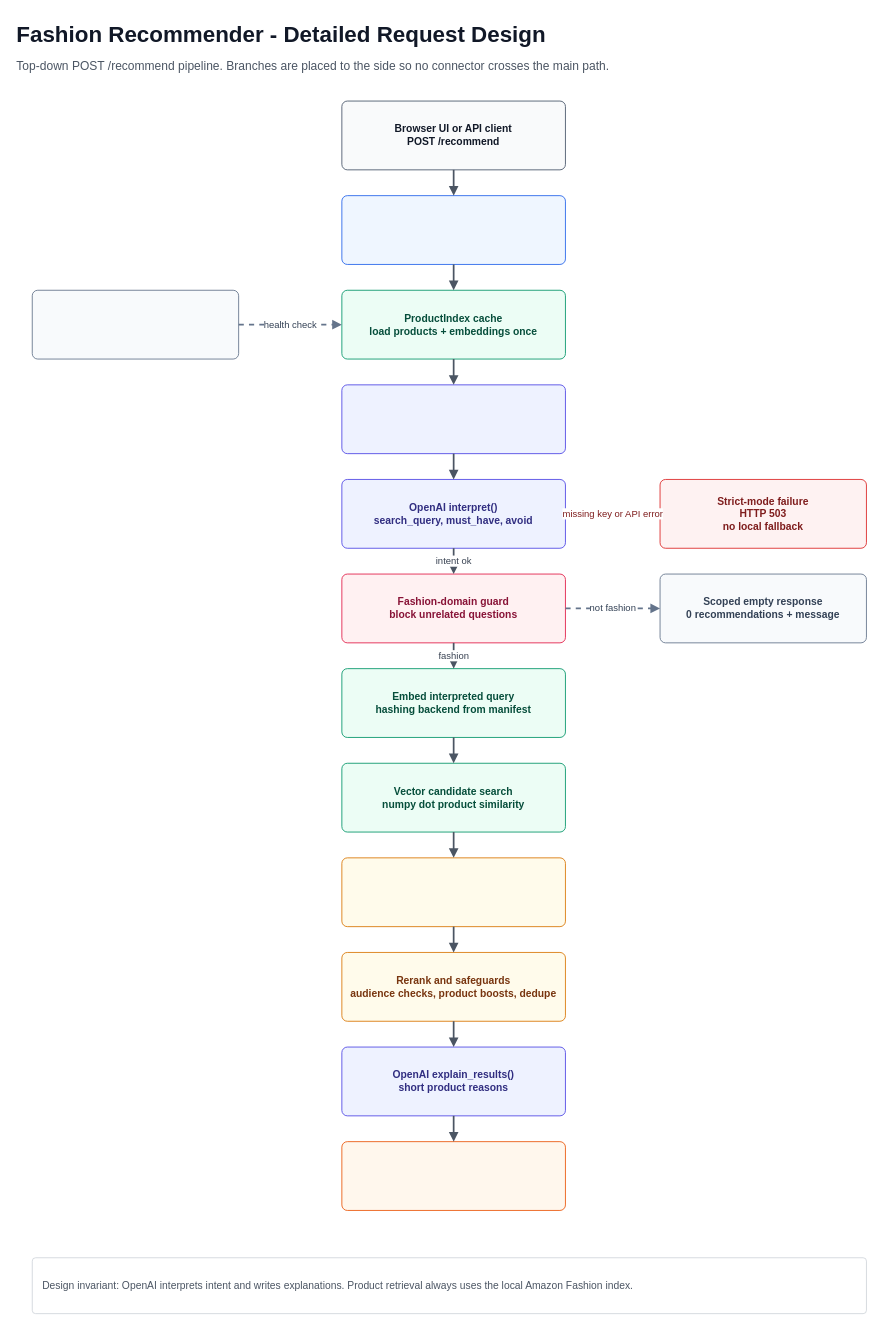
Some shapes in this 882 by 1329 pixel diagram are drawn without their labels. Here are the shapes that lost their labels. From the top down, the centre of each, then its label:
At [453,229]: "Pydantic validation query, top_k, filters".
At [135,324]: "GET /health reports index and LLM status".
At [453,419]: "get_interpreter() USE_LLM + REQUIRE_OPENAI".
At [453,892]: "Candidate filters price, rating, listed price, avoid terms".
At [453,1175]: "RecommendResponse provider, latency, scores, products".
